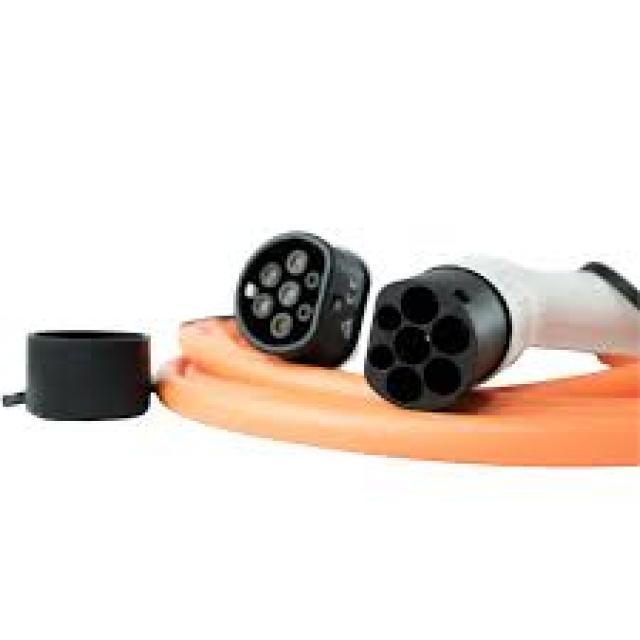Type 2: (210, 195, 358, 364)
